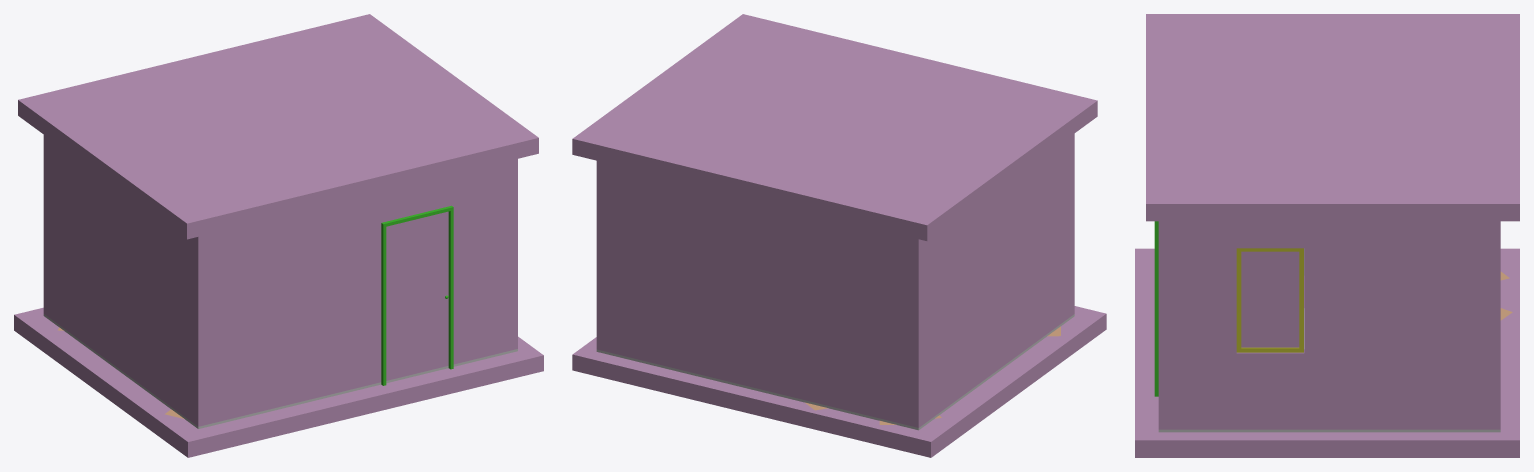
The model's file is FloorPlan312.fbx.
3 renders of one model, left to right at view 1: azimuth 30°, elevation 25°; view 2: azimuth 150°, elevation 25°; view 3: azimuth 270°, elevation 25°, orthographic. The views are drawn at different scales.
Parts seen in each view (by area): view 1: StandardWallSize.010, Ceiling.008, Floor.009, StandardDoorFrame1.008; view 2: StandardWallSize.010, Ceiling.008, Floor.009; view 3: Ceiling.008, StandardWallSize.010, Floor.009, StandardWindow2, StandardDoorFrame1.008.
Part boxes in pixels (left/top/right/bottom): StandardWallSize.010: left=43, top=135, right=517, bottom=428; Ceiling.008: left=18, top=14, right=538, bottom=239; Floor.009: left=14, top=307, right=543, bottom=457; StandardDoorFrame1.008: left=381, top=205, right=453, bottom=385; StandardWallSize.010: left=596, top=133, right=1074, bottom=430; Ceiling.008: left=572, top=14, right=1097, bottom=240; Floor.009: left=572, top=306, right=1106, bottom=457; Ceiling.008: left=1146, top=14, right=1519, bottom=221; StandardWallSize.010: left=1158, top=221, right=1500, bottom=432; Floor.009: left=1135, top=248, right=1519, bottom=457; StandardWindow2: left=1236, top=248, right=1303, bottom=352; StandardDoorFrame1.008: left=1154, top=221, right=1158, bottom=396.
Bounding box in the file's own units: 470 × 290 × 398.
